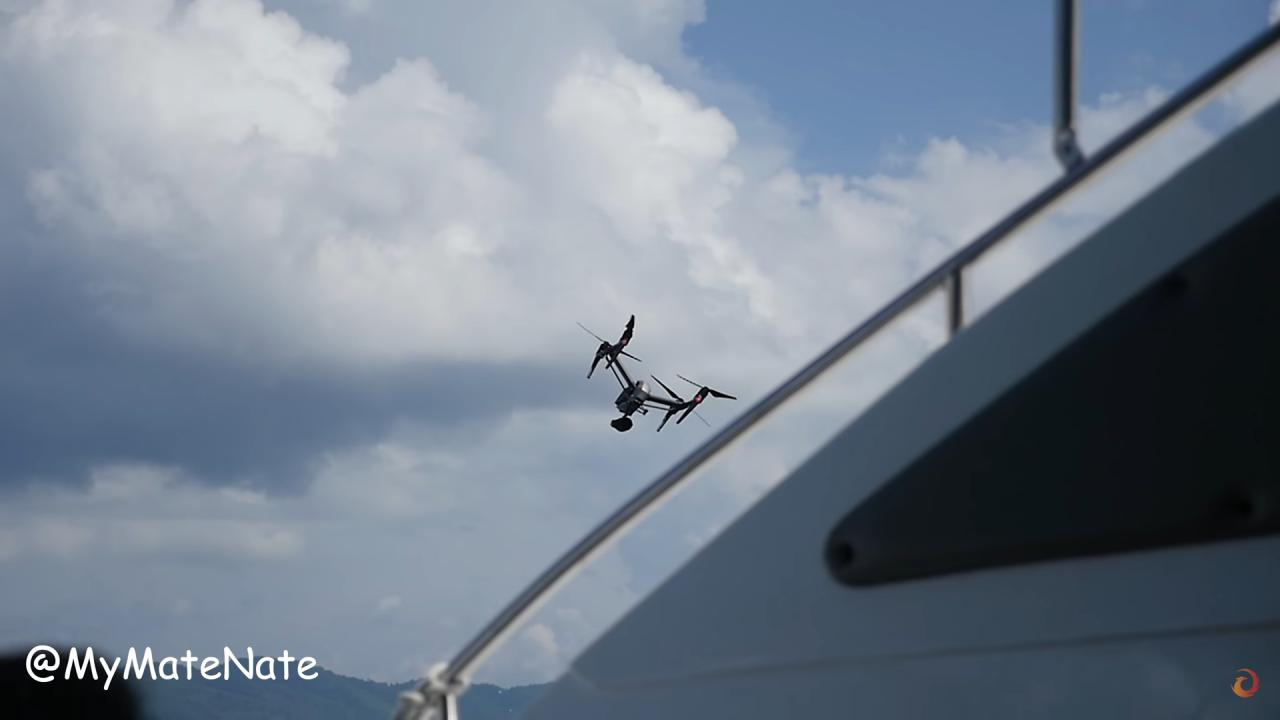Drone: (550, 293, 760, 454)
